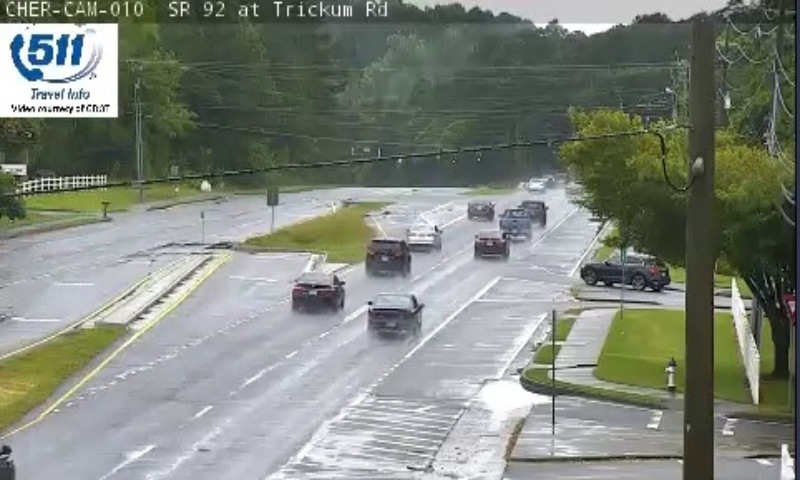car: (367, 294, 420, 332), (293, 274, 343, 306), (365, 240, 411, 274), (474, 229, 507, 258), (404, 225, 441, 247), (499, 209, 529, 234), (519, 200, 546, 225), (468, 198, 494, 218)
